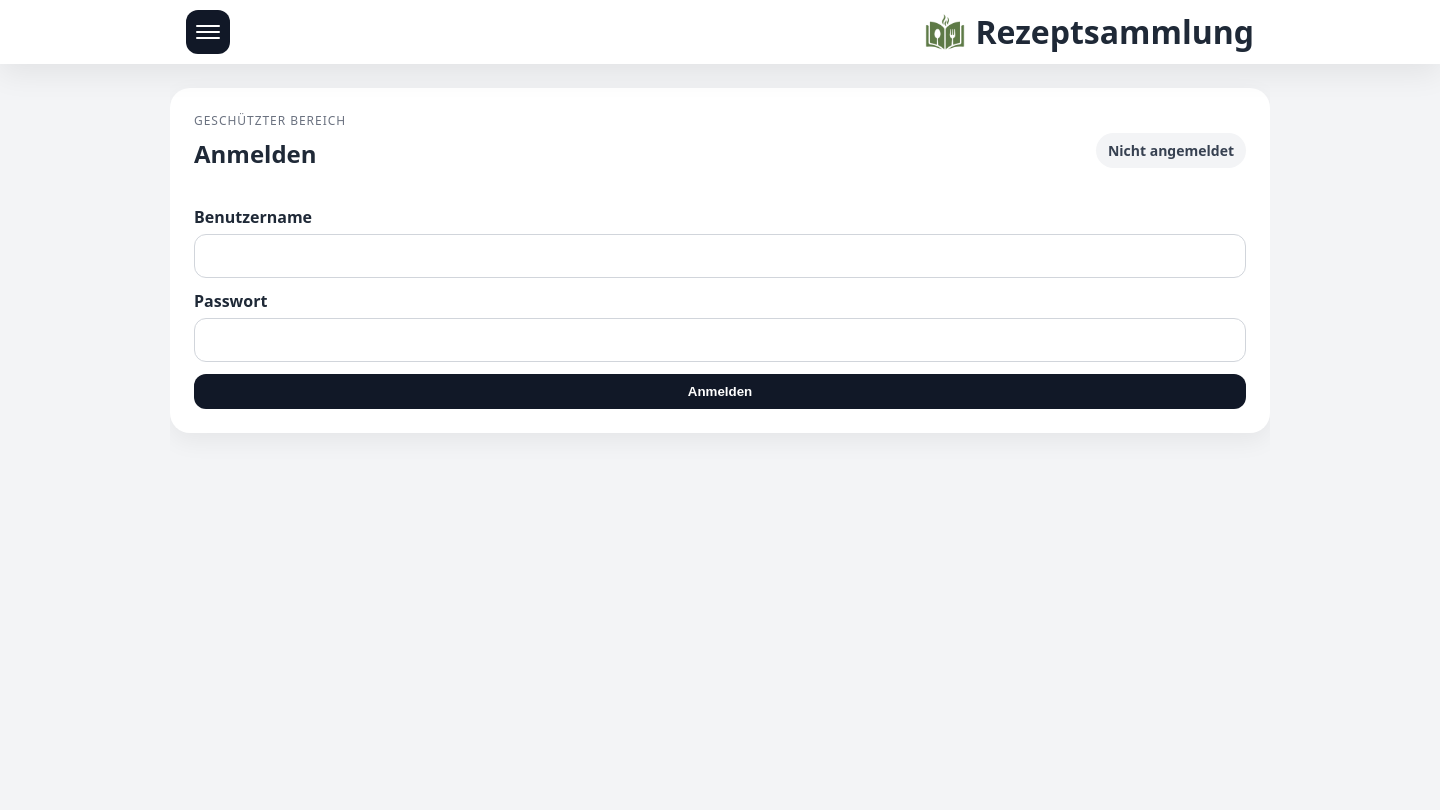
App login flow › loads recipes immediately after login without requiring a manual reload
Step 1. Type "anna" into the field labelled "Benutzername" → (720, 256), box top-left (194, 234), bottom-right (1246, 278)
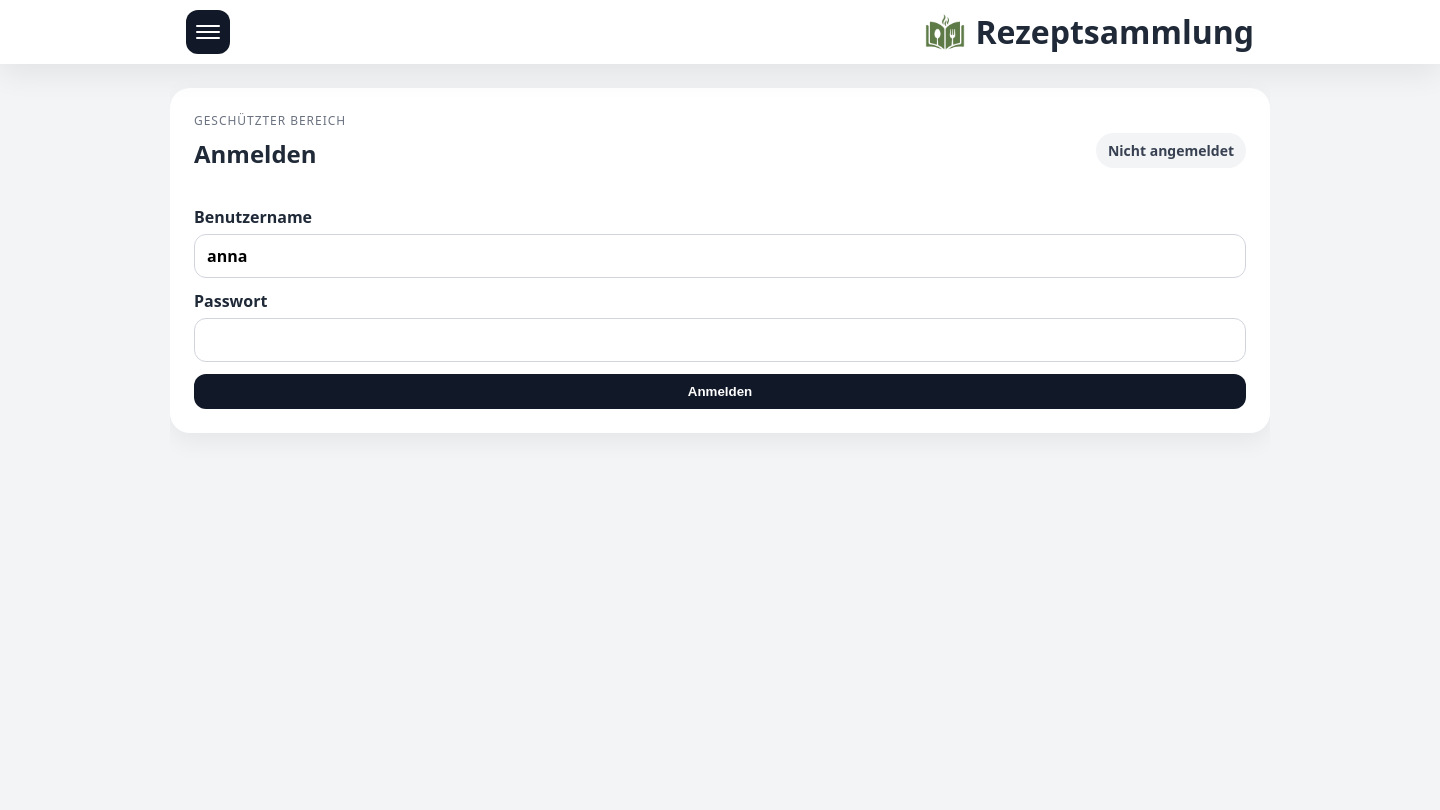
Step 2. Type "geheim" into the password field labelled "Passwort" → (720, 340), box top-left (194, 318), bottom-right (1246, 362)
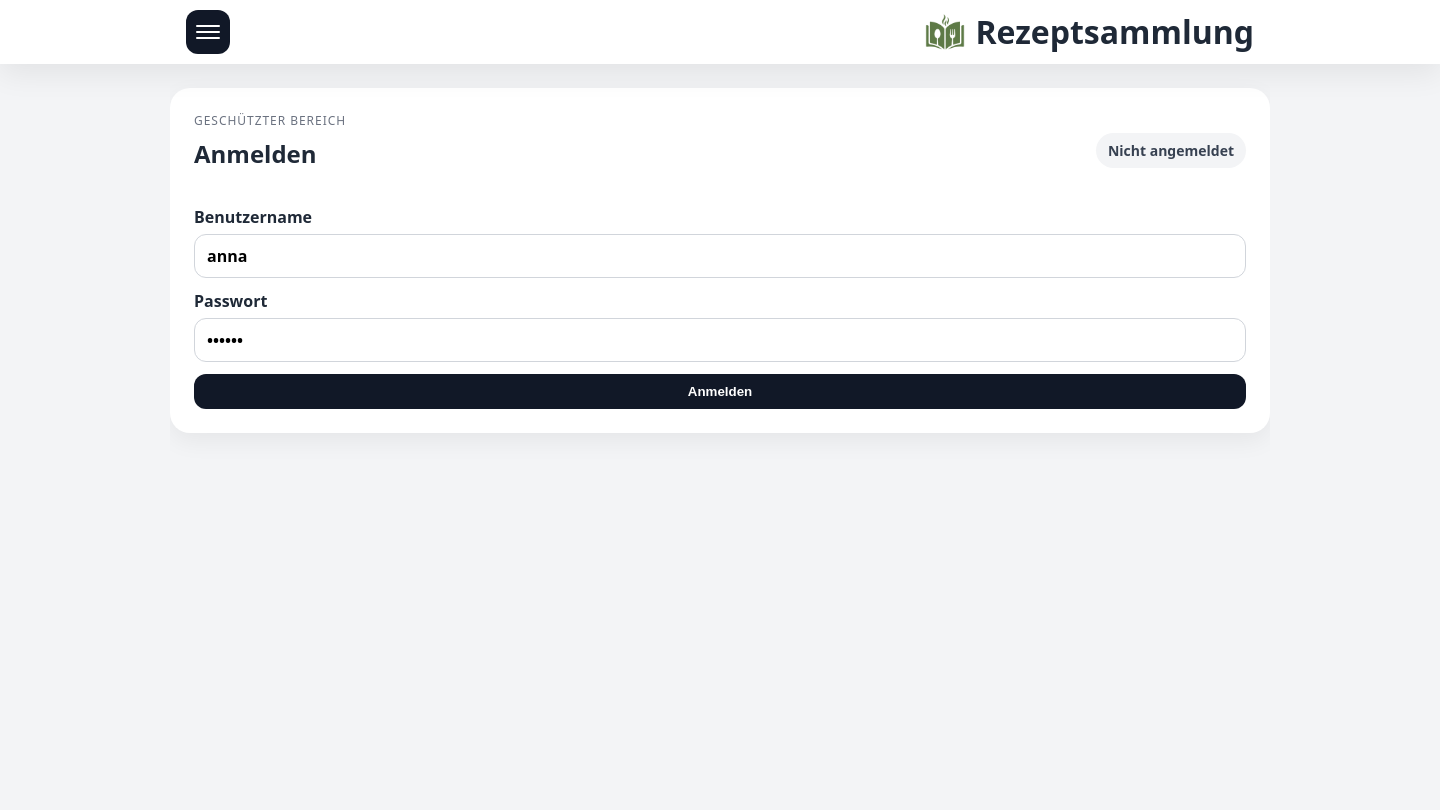
Step 3. Click the button "Anmelden" → click(720, 391), box top-left (194, 374), bottom-right (1246, 409)
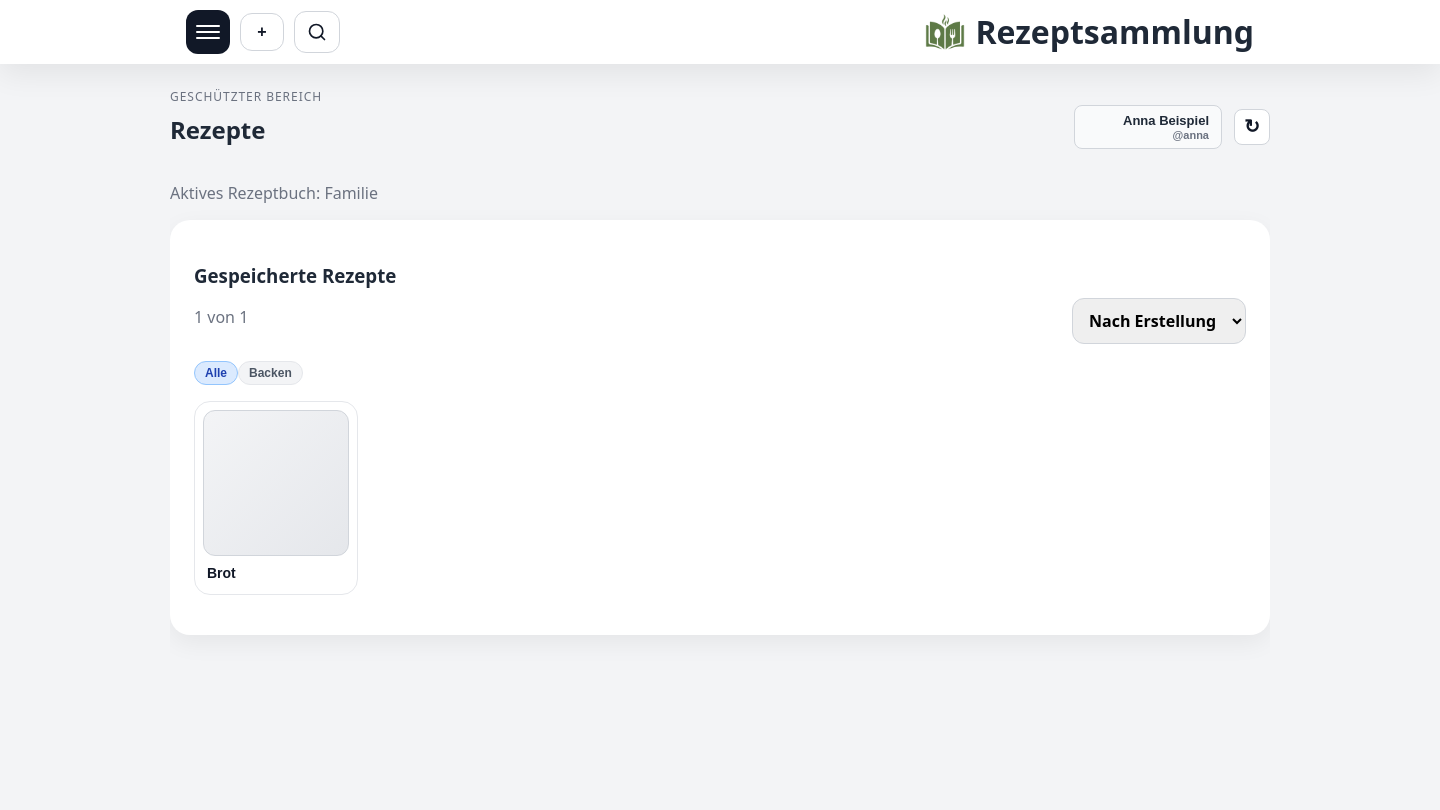
Expected: the text "Brot" is shown, top-left (207, 565), bottom-right (236, 581)
